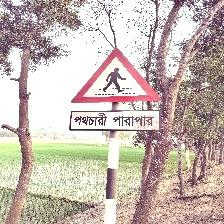Pedestrian-crossing: (69, 47, 161, 132)
